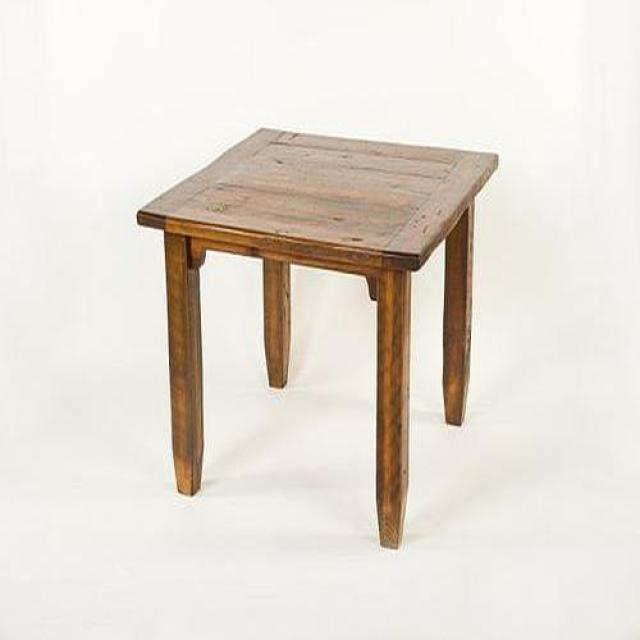table: (136, 128, 500, 550)
